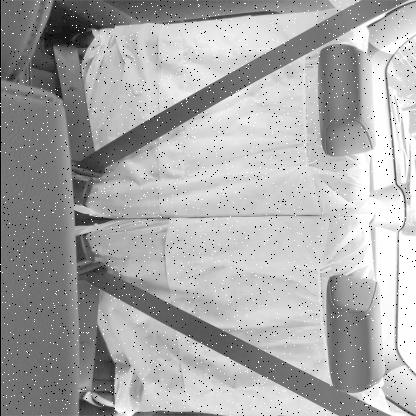seatbelt: (66, 245, 355, 406), (54, 23, 358, 173)
